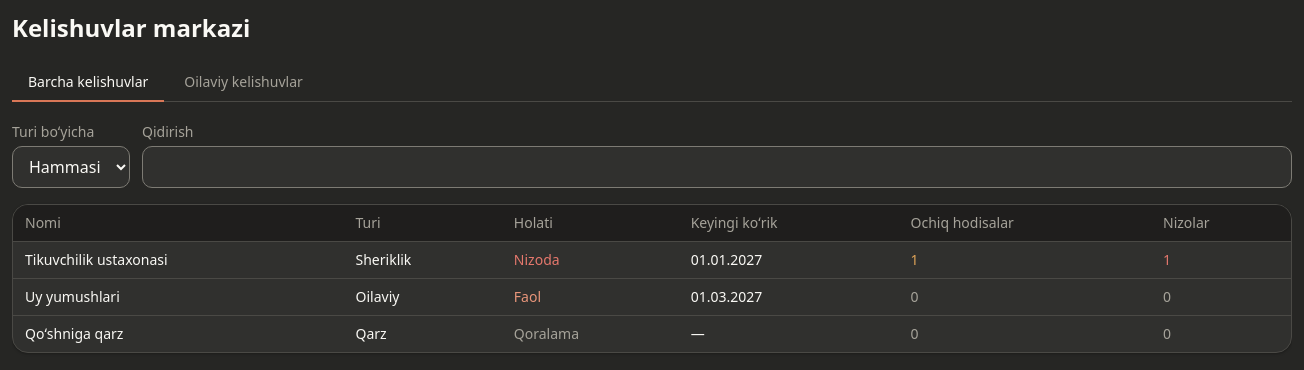
AgreementsScreen › jadval: tur bo'yicha filtr va qidiruv
expect the text "Tikuvchilik ustaxonasi" is shown: met, box [13,242,344,278]
expect the text "Nizoda" is shown: met, box [514,250,560,269]
Select "Oilaviy" in the dropdown labelled "Turi boʻyicha" at (71, 167), box [12,146,130,188]
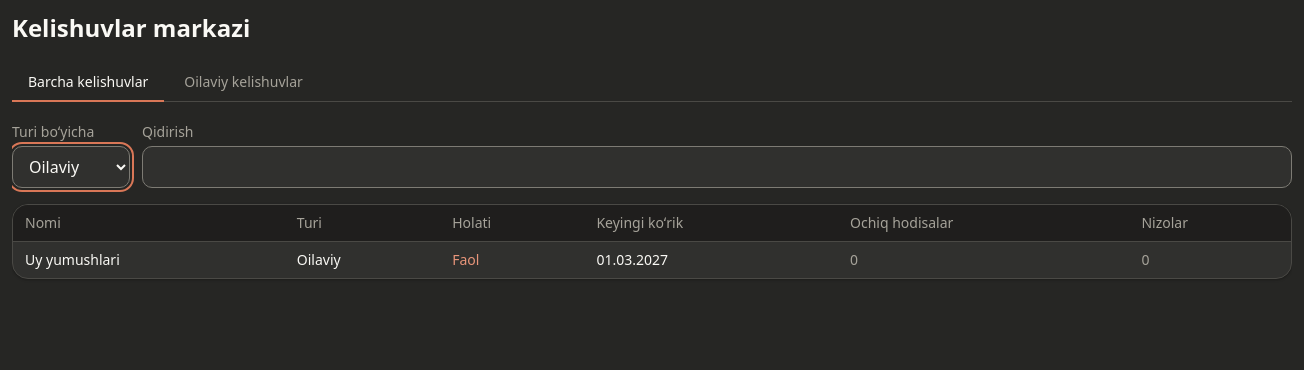
expect the text "Tikuvchilik ustaxonasi" is gone: met
expect the text "Uy yumushlari" is shown: met, box [13,242,285,278]
Select "Hammasi" in the dropdown labelled "Turi boʻyicha" at (71, 167), box [12,146,130,188]
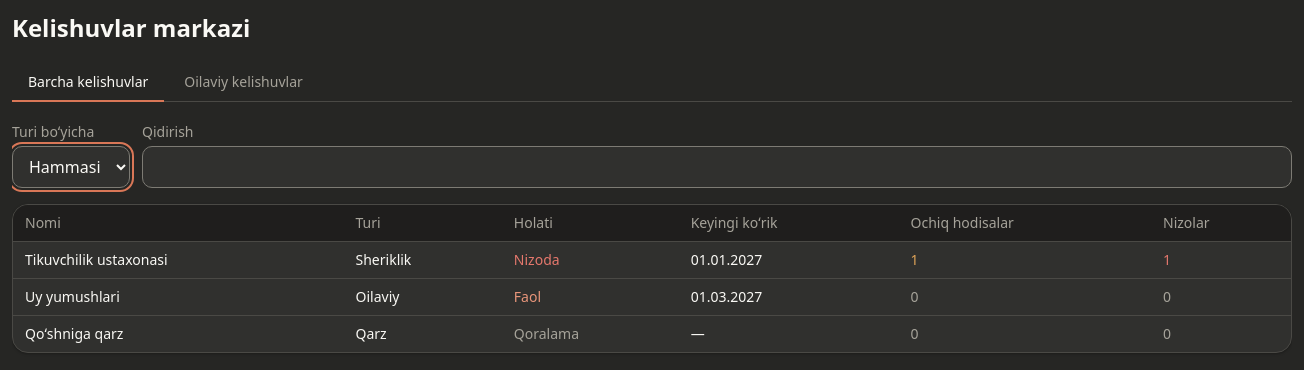
Type "qarz" into the search field labelled "Qidirish" at (717, 167), box [142,146,1292,188]
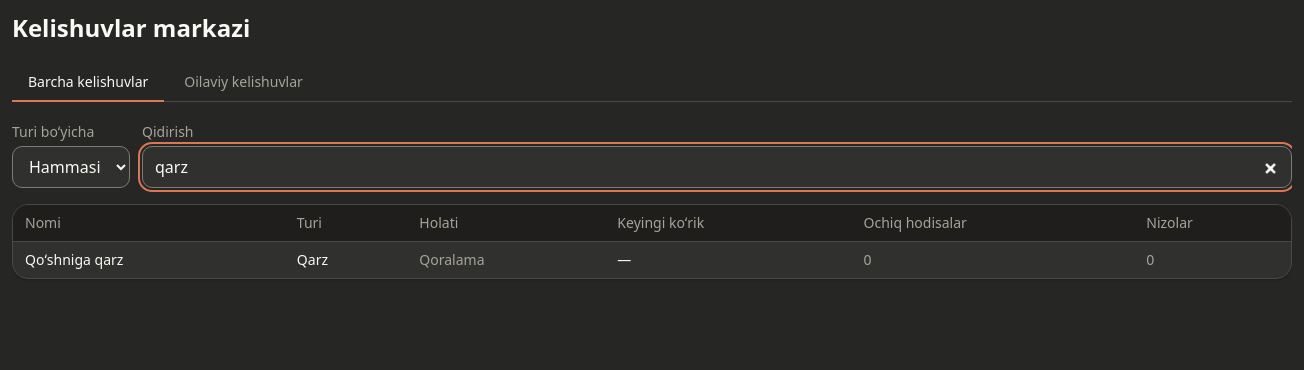
expect the text "Qoʻshniga qarz" is shown: met, box [13,242,285,278]
expect the text "Uy yumushlari" is gone: met
